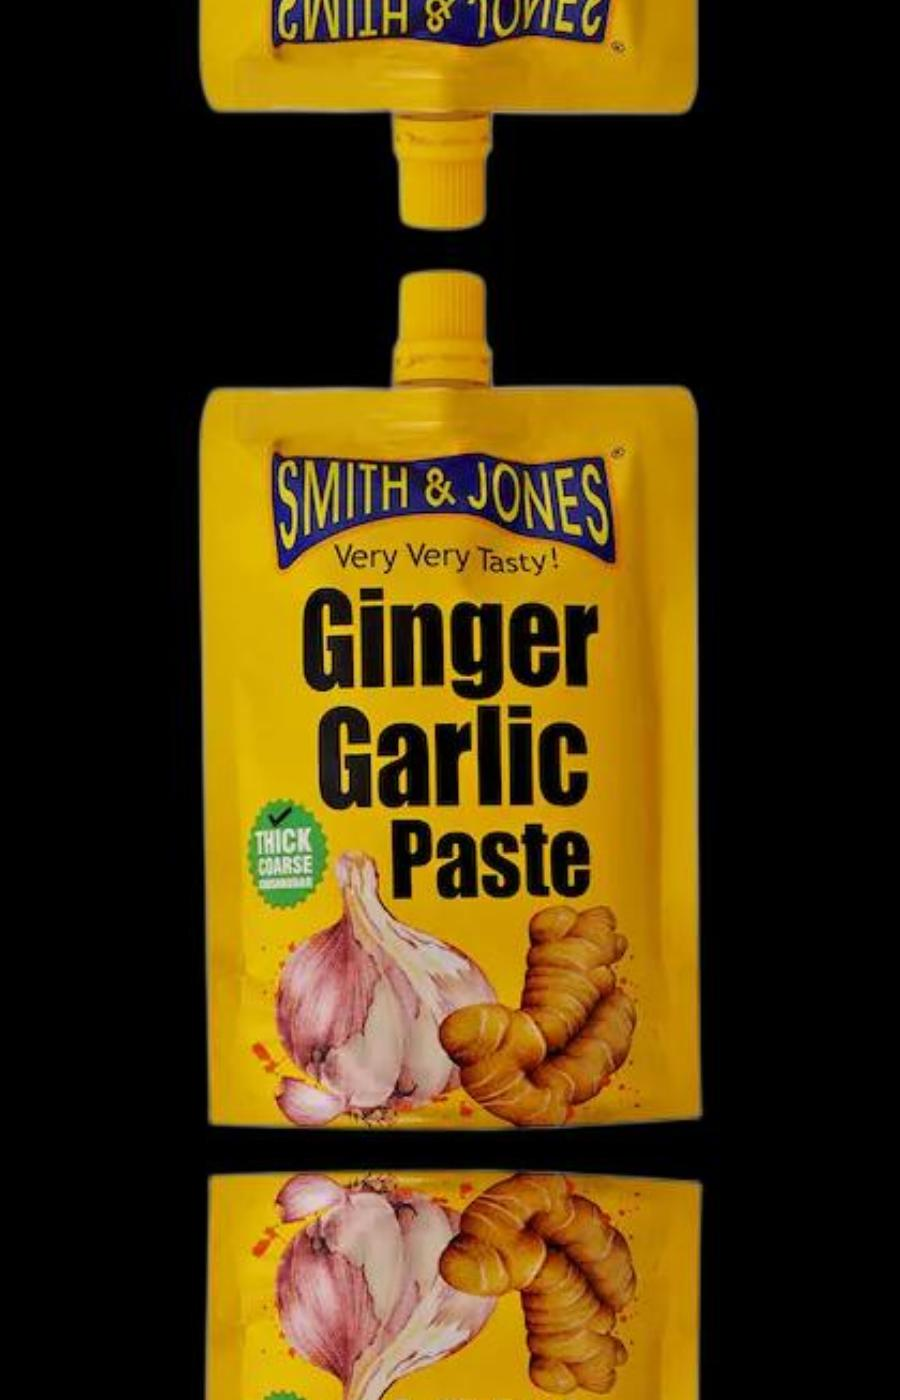Smith - Jones Ginger Garlic Paste 200 g: (190, 262, 708, 1126), (189, 0, 708, 237), (189, 1174, 708, 1400)
